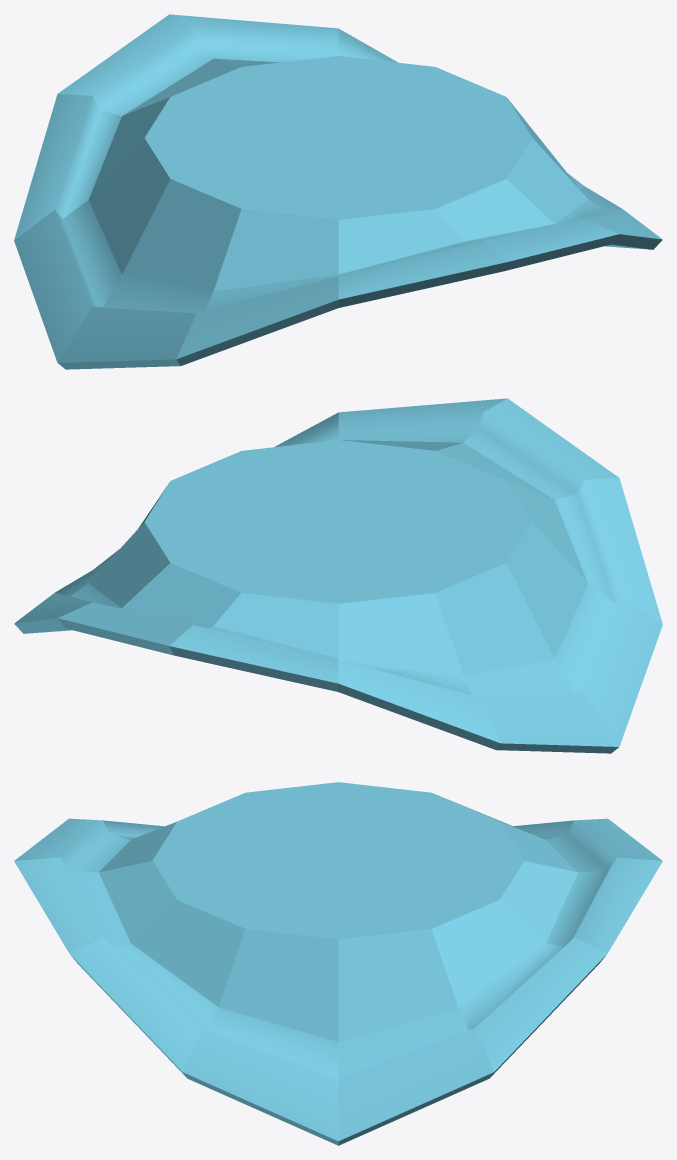
3 views of the same model, one above another, from view 1: azimuth 30°, elevation 25°; view 2: azimuth 150°, elevation 25°; view 3: azimuth 270°, elevation 25° (orthographic). The views are drawn at different scales.
Visible parts, largest first — view 1: polySurface2; view 2: polySurface2; view 3: polySurface2.
Boxes of the visible parts, x1,y1,x2,y2 form: polySurface2: (14,14,662,369); polySurface2: (14,398,662,753); polySurface2: (14,782,662,1145).
Size of the model in its own units: 15.26 by 4.37 by 15.92.
